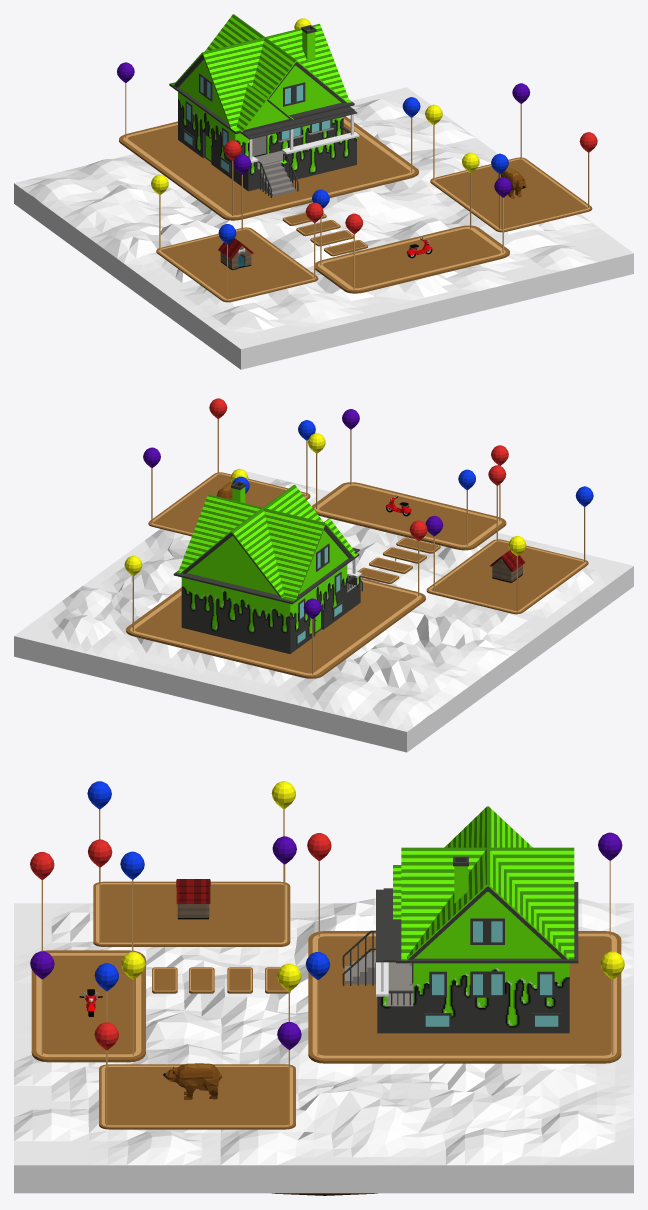
The picture shows the model from 3 angles, top to bottom: view 1: azimuth 30°, elevation 25°; view 2: azimuth 150°, elevation 25°; view 3: azimuth 270°, elevation 25°; orthographic projection. The views are drawn at different scales.
Visible parts, largest first — view 1: Cube.013, Cube.754, OBJRANDOM_DOGHOUSE; view 2: Cube.013, Cube.754, OBJRANDOM_DOGHOUSE; view 3: Cube.013, Cube.754, ANIMAL_OSO, OBJRANDOM_DOGHOUSE.
Boxes of the visible parts, <box> form: Cube.013: <box>14,18,633,369</box>; Cube.754: <box>169,14,359,197</box>; OBJRANDOM_DOGHOUSE: <box>218,238,253,270</box>; Cube.013: <box>14,398,633,752</box>; Cube.754: <box>173,481,362,653</box>; OBJRANDOM_DOGHOUSE: <box>490,550,525,582</box>; Cube.013: <box>14,781,633,1193</box>; Cube.754: <box>342,806,578,1033</box>; ANIMAL_OSO: <box>163,1063,221,1099</box>; OBJRANDOM_DOGHOUSE: <box>176,879,210,919</box>.
Bounding box in the file's own units: 4000 × 1753 × 4000.
Materials: 38 (2 with a texture image).
